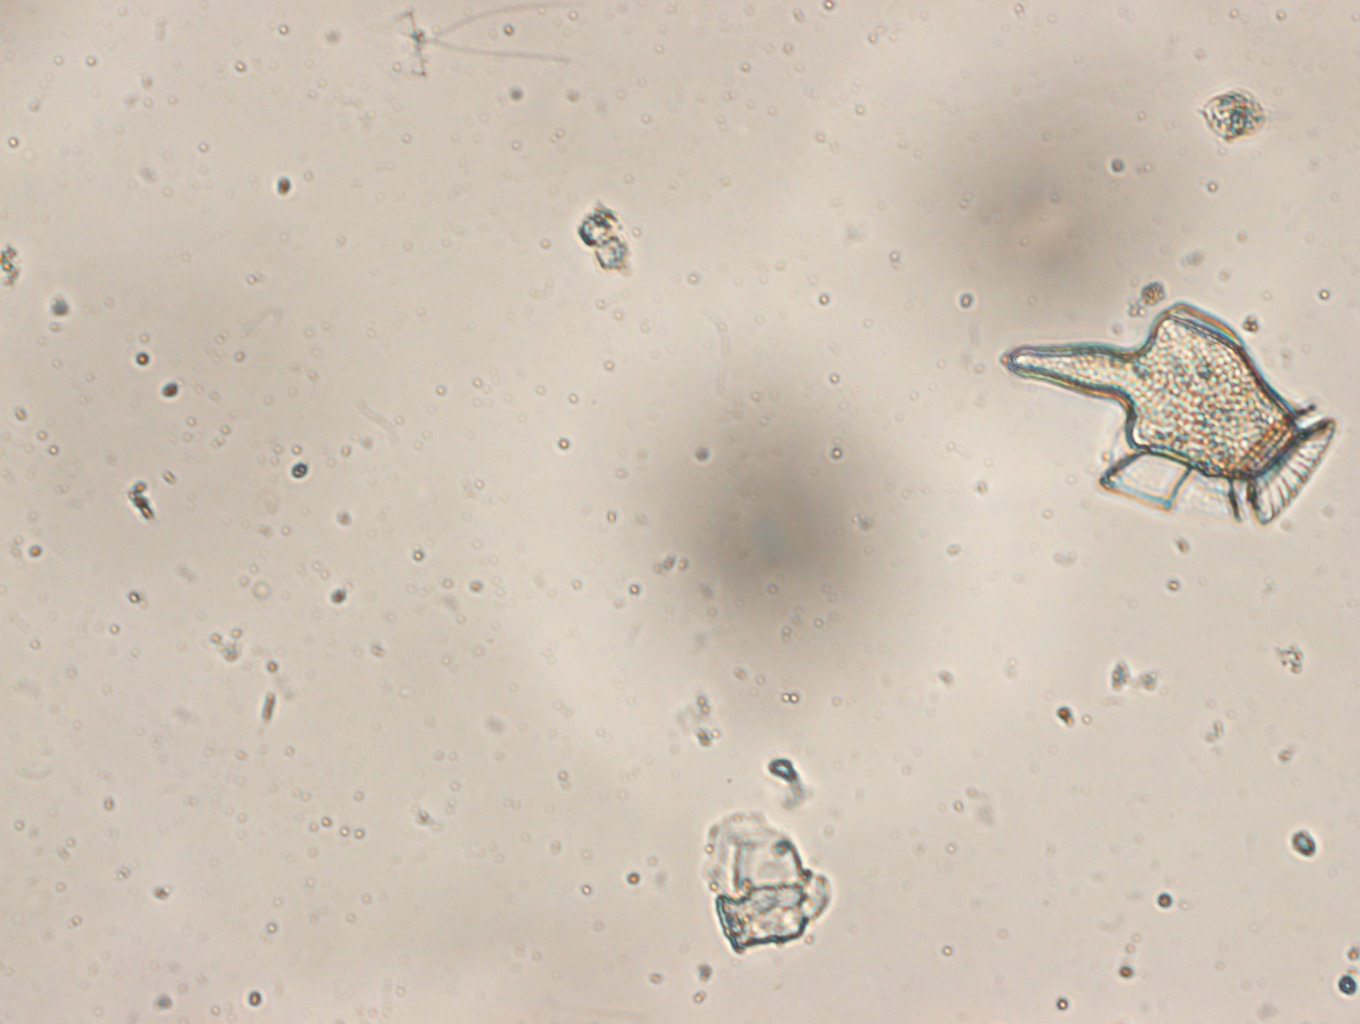dinophysis caudata: (1003, 300, 1336, 526)
